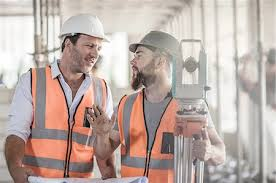Person_wearing_helmet: (56, 5, 114, 48)
